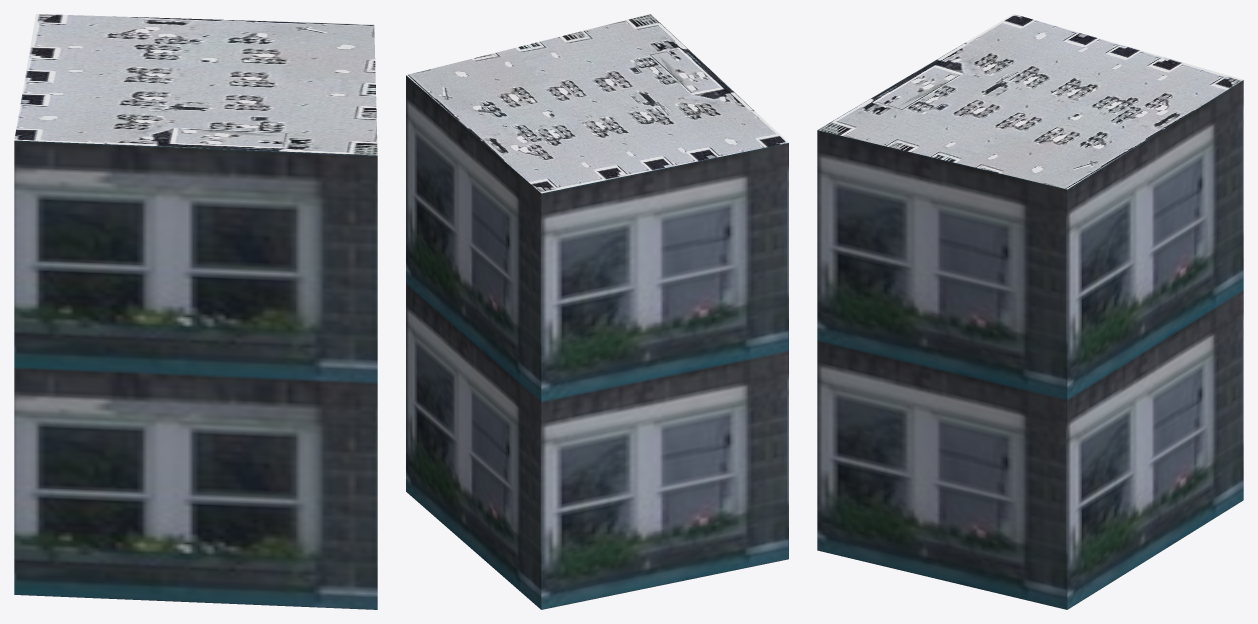
File: ResTex__5038.fbx
3 views of the same model, side by side, from view 1: azimuth 30°, elevation 25°; view 2: azimuth 150°, elevation 25°; view 3: azimuth 270°, elevation 25° (orthographic). The views are drawn at different scales.
Visible parts, largest first — view 1: CityEngineMaterial_11_m, CityEngineMaterial_2_m; view 2: CityEngineMaterial_11_m, CityEngineMaterial_2_m; view 3: CityEngineMaterial_11_m, CityEngineMaterial_2_m.
Boxes of the visible parts, box(x1,y1,x2,y2) form: CityEngineMaterial_11_m: box(14, 140, 377, 609); CityEngineMaterial_2_m: box(14, 14, 377, 155); CityEngineMaterial_11_m: box(406, 75, 788, 609); CityEngineMaterial_2_m: box(406, 14, 788, 193); CityEngineMaterial_11_m: box(817, 80, 1243, 609); CityEngineMaterial_2_m: box(818, 14, 1243, 189).
Bounding box in the file's own units: 5.37 × 6 × 5.52.
2 materials, 2 textured.
